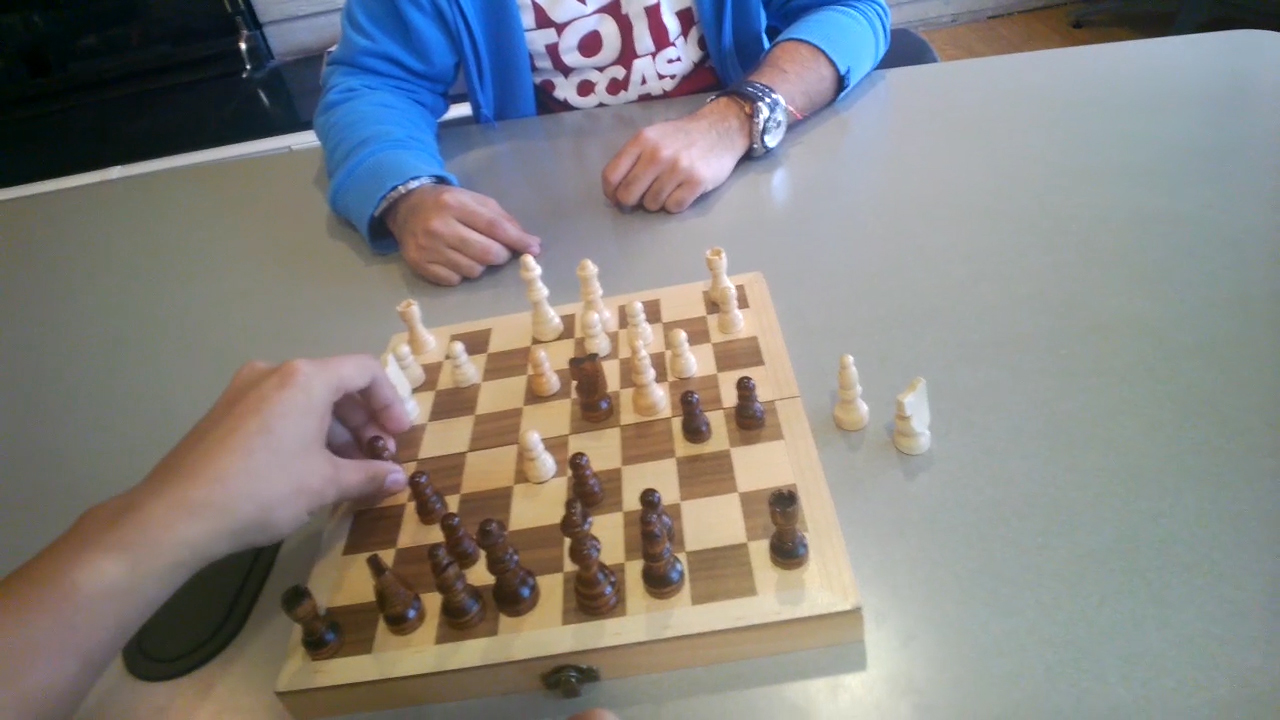hand: (128, 357, 405, 554), (382, 187, 535, 283), (611, 101, 745, 208), (575, 703, 609, 715)
